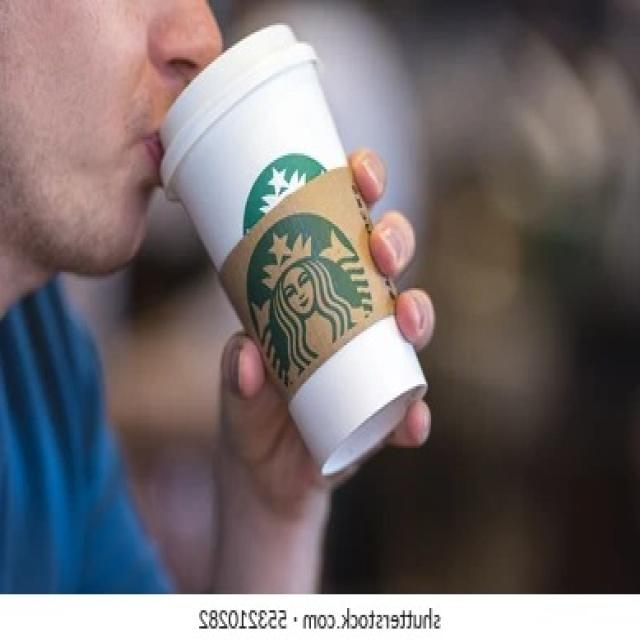starbucks: (244, 206, 373, 398)
